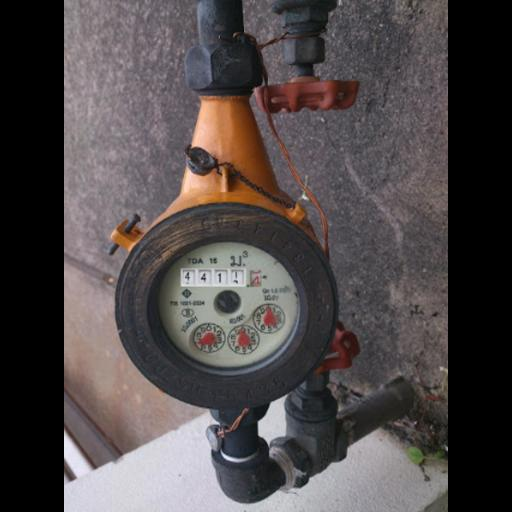1: (215, 270, 227, 284), (232, 270, 244, 284)
4: (183, 270, 195, 284), (199, 270, 211, 284), (250, 271, 260, 286)
border_water_meter_number: (180, 269, 262, 288)
